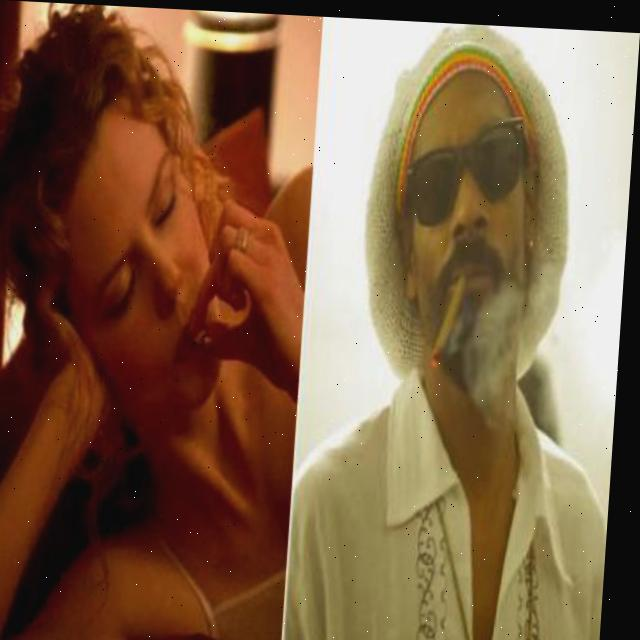cigarette: (432, 270, 472, 366), (196, 325, 220, 350)
